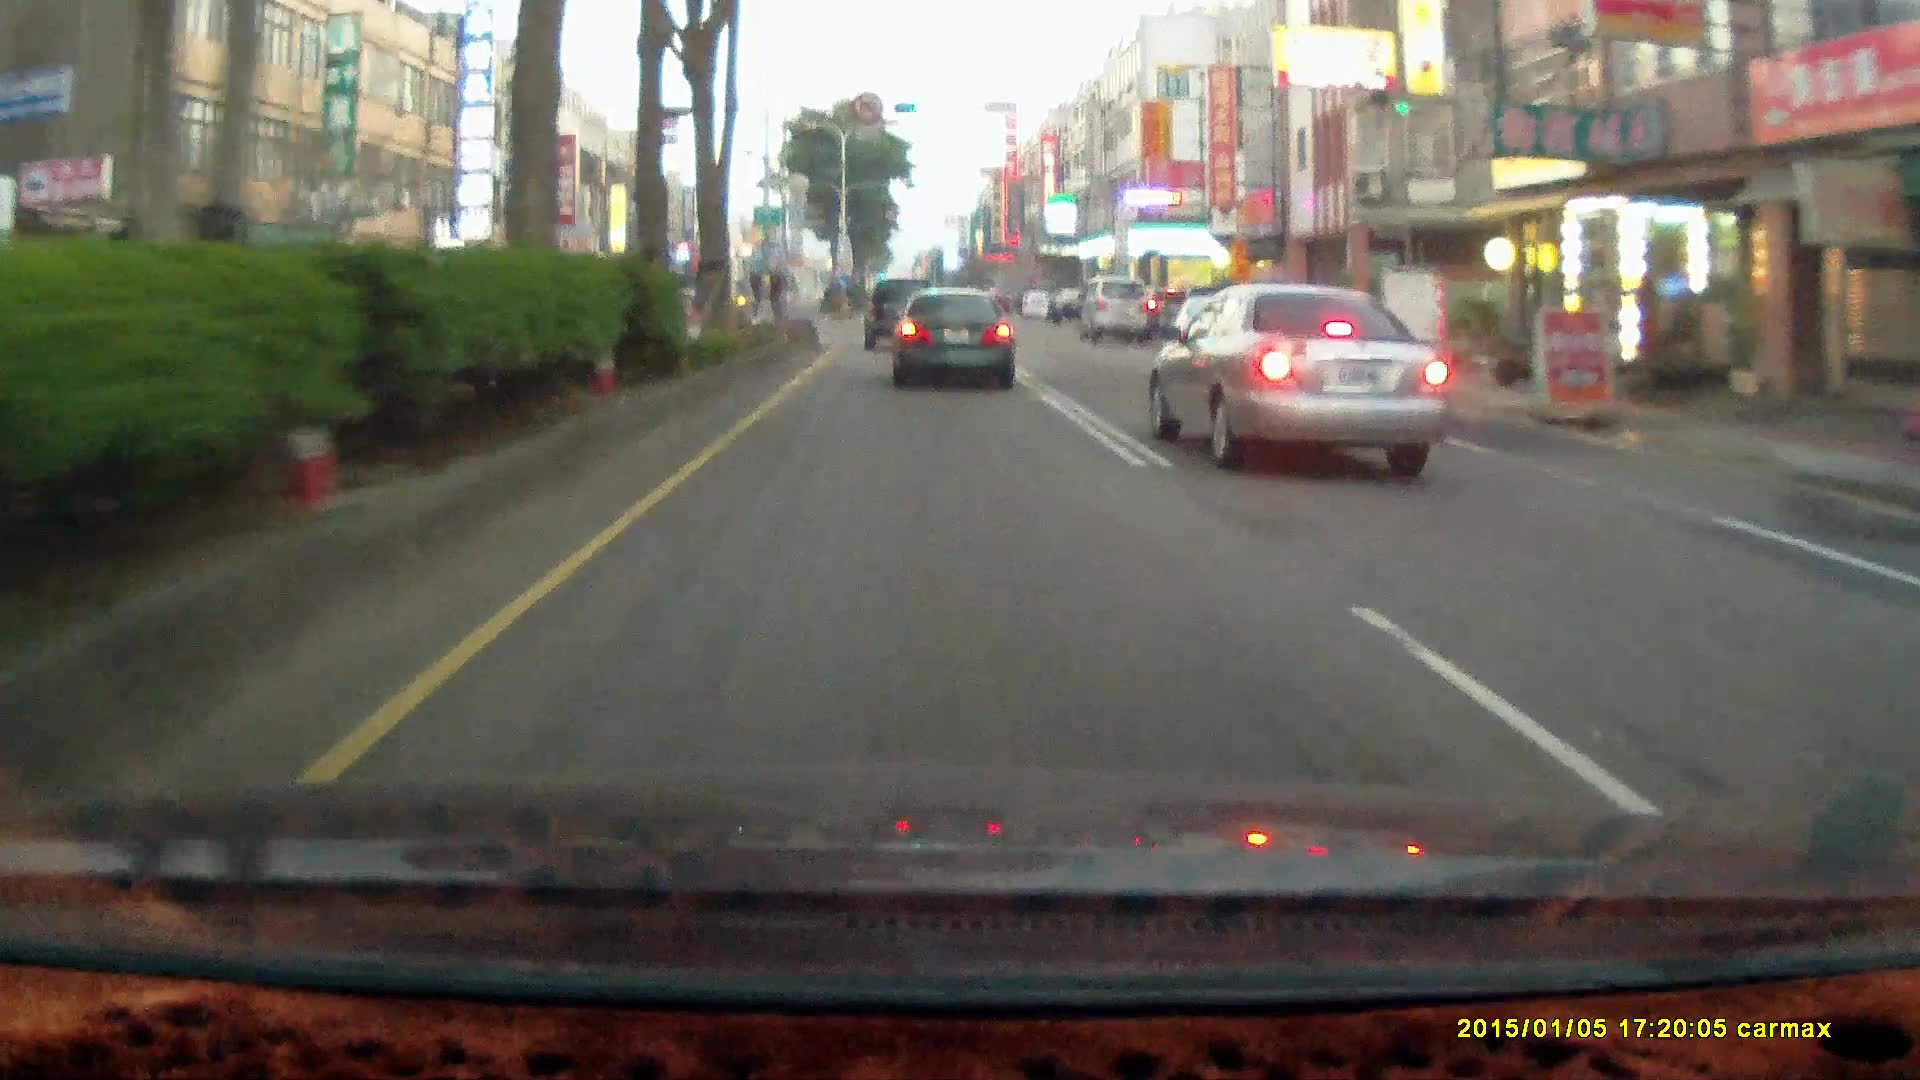vehicle: (1149, 286, 1451, 468), (890, 287, 1021, 396), (891, 286, 1011, 390), (862, 278, 943, 355), (862, 282, 938, 355), (1077, 272, 1153, 338), (1077, 280, 1153, 345), (1048, 285, 1102, 323), (1022, 289, 1051, 316)
